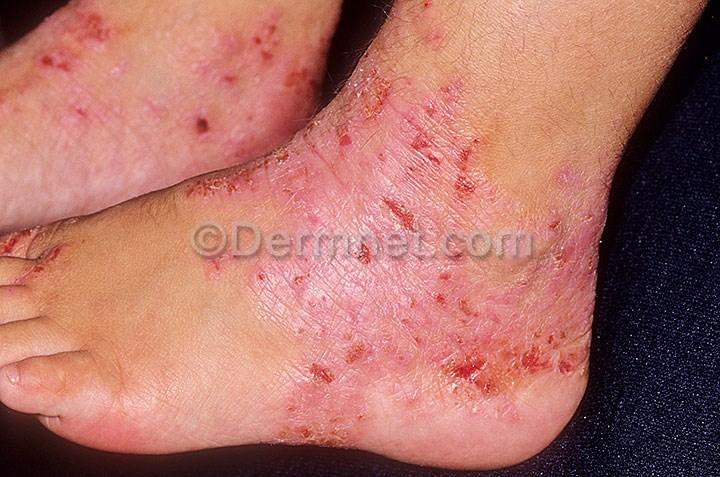Eczema: (280, 89, 534, 234), (200, 263, 385, 436), (383, 264, 568, 431), (0, 11, 148, 141), (138, 56, 268, 143), (535, 160, 607, 282), (2, 211, 107, 278), (200, 158, 290, 222), (233, 14, 335, 68), (371, 0, 448, 60), (516, 16, 516, 17)
